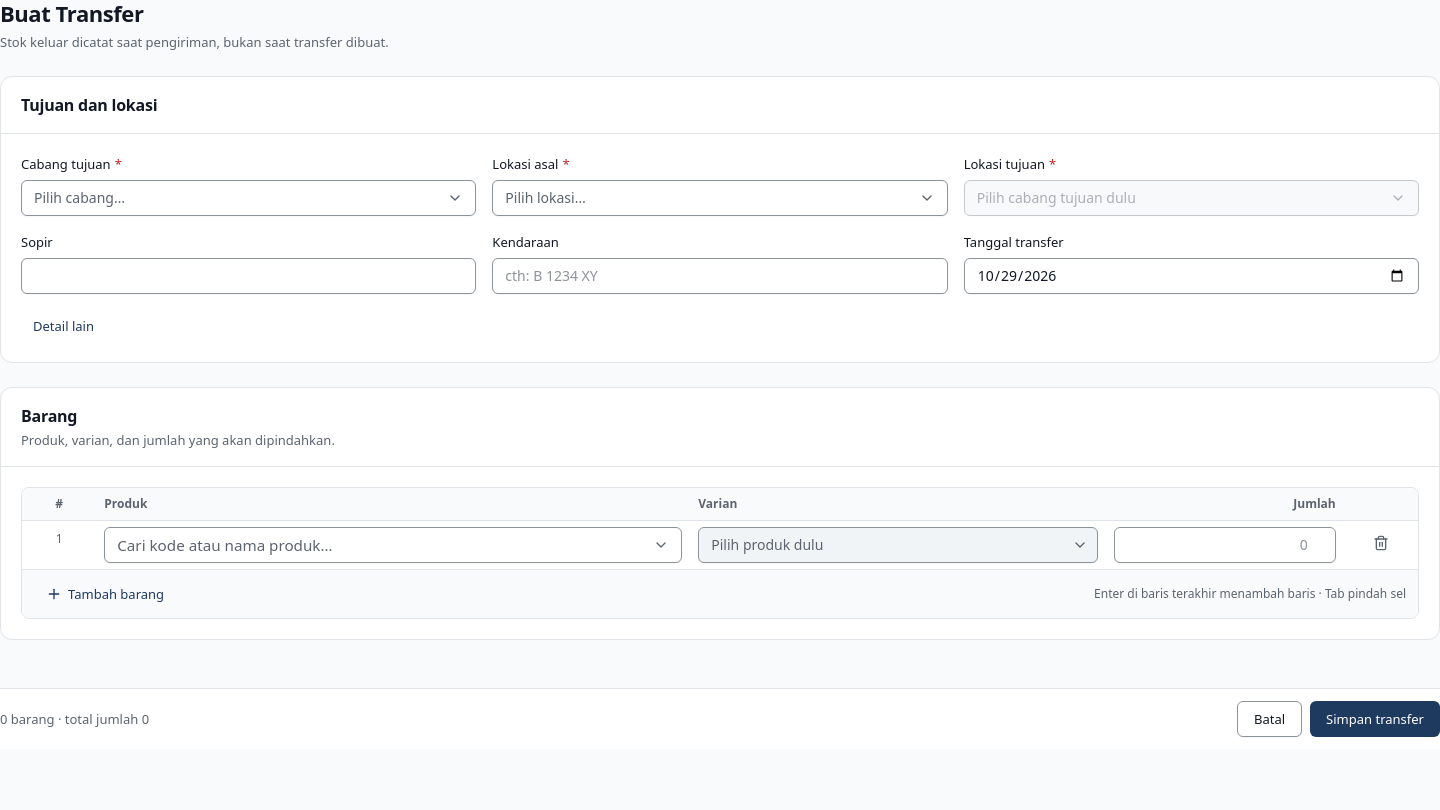
Scenario: TransferNewPage — lokasi tujuan mengikuti cabang tujuan (K-06) › memuat lokasi cabang tujuan dan mengosongkan pilihan saat cabang berganti
Click the button named "Cabang tujuan": (79, 197) [21,180,476,216]
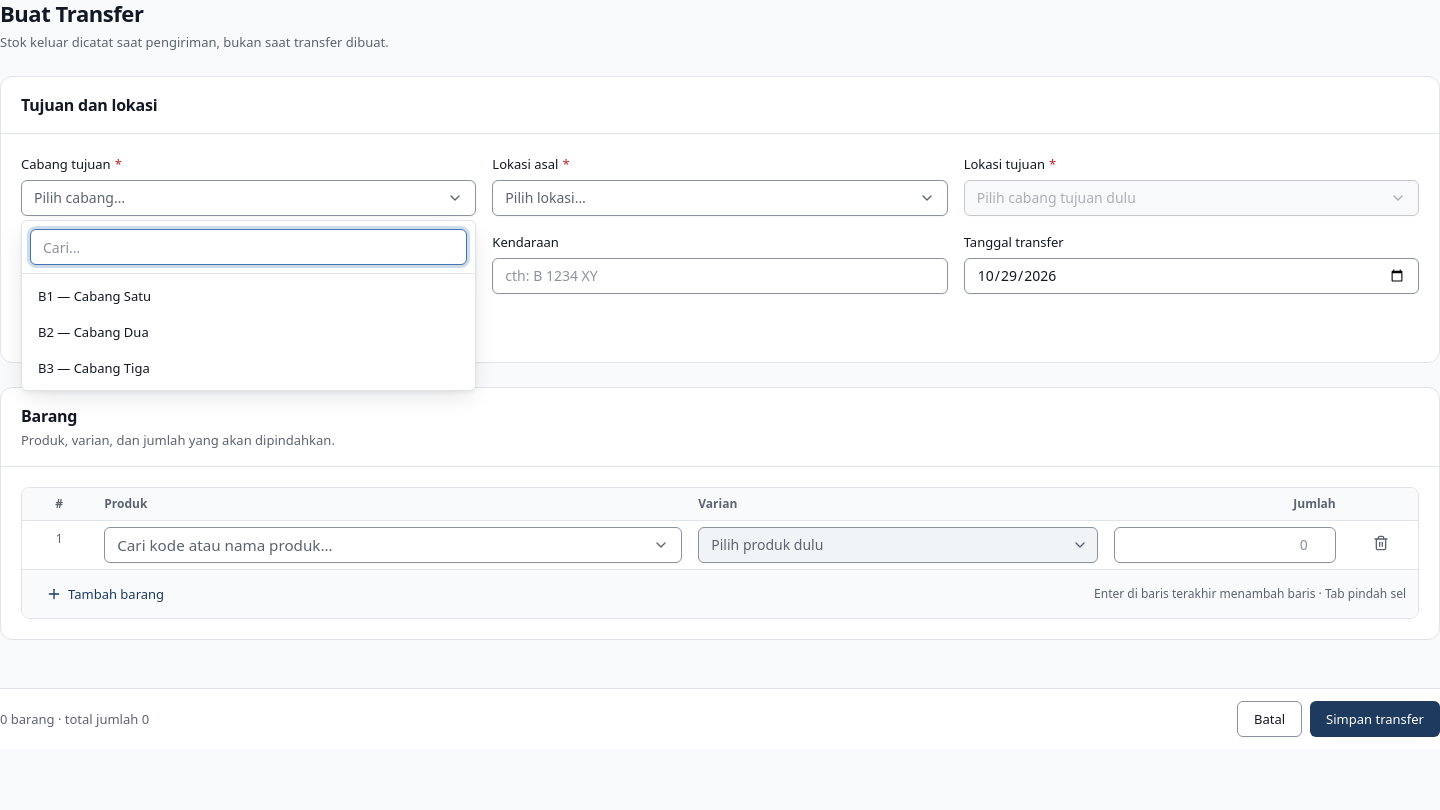
Click the option "B2 — Cabang Dua": (93, 332) [26,314,471,350]
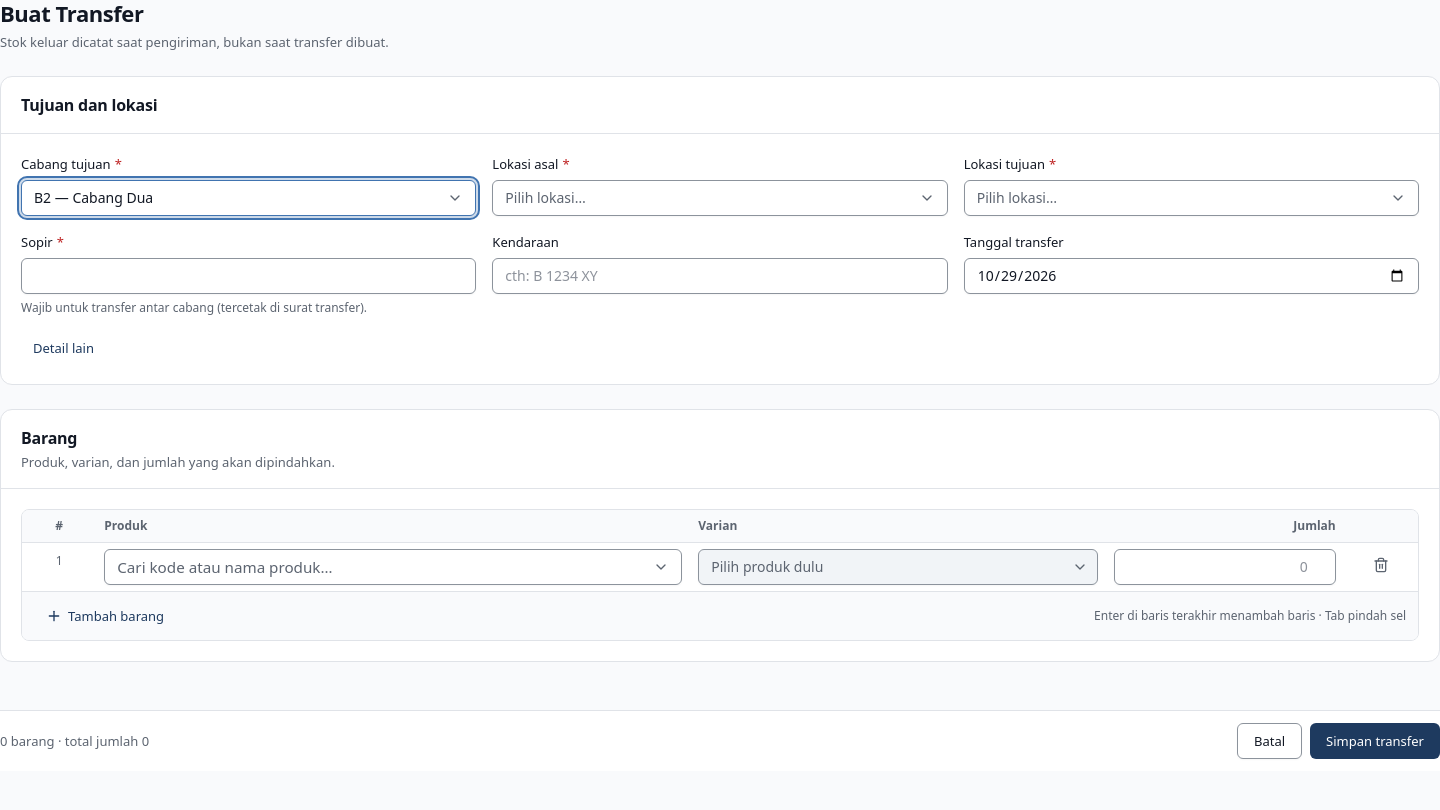
Expected: the button named "Lokasi tujuan" is enabled
Click the button named "Lokasi tujuan": (1017, 197) [964,180,1419,216]
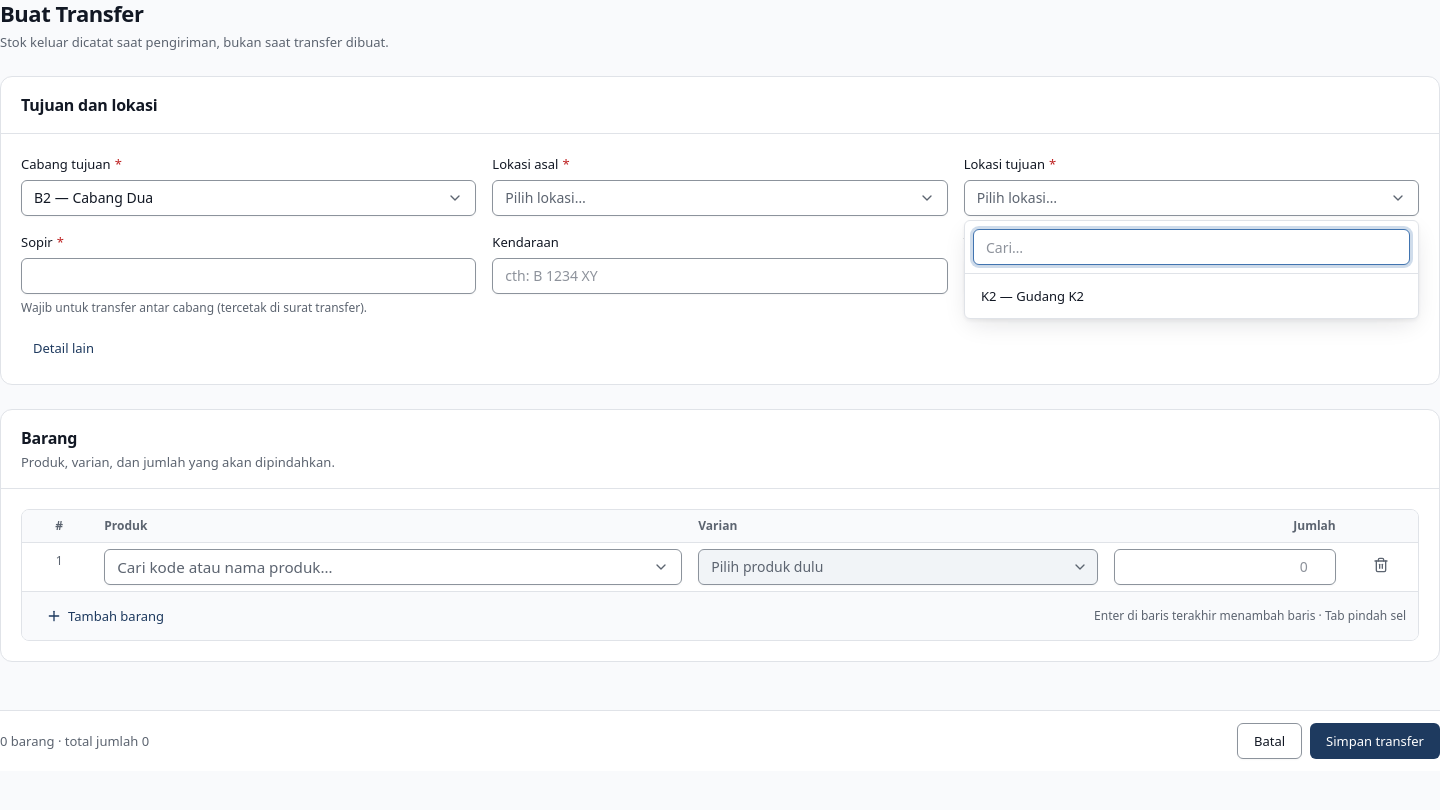
Click the option "K2 — Gudang K2": (1032, 296) [969,278,1414,314]
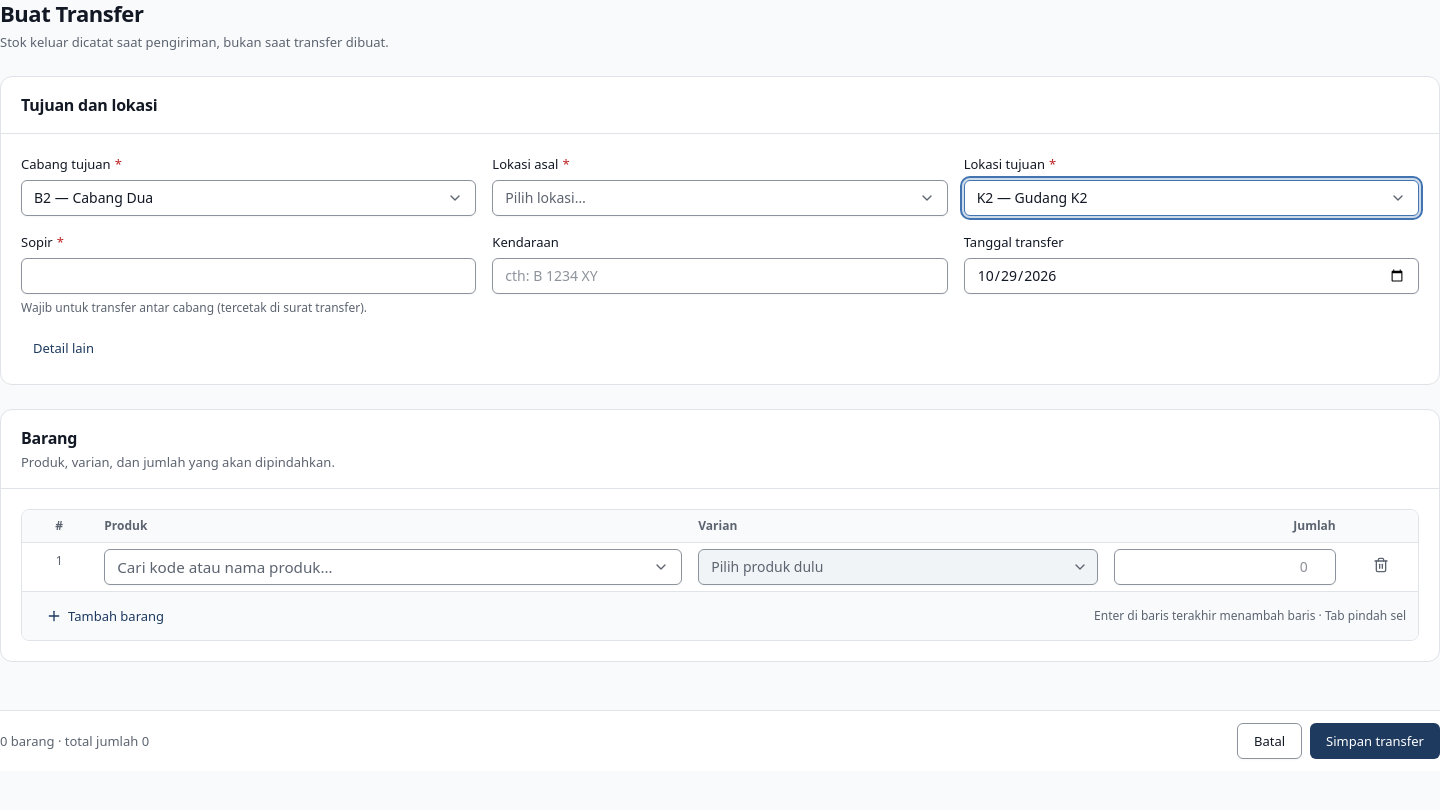
Expected: the text "K2 — Gudang K2" is shown, [977,186,1088,208]
Click the button named "Cabang tujuan": (94, 197) [21,180,476,216]
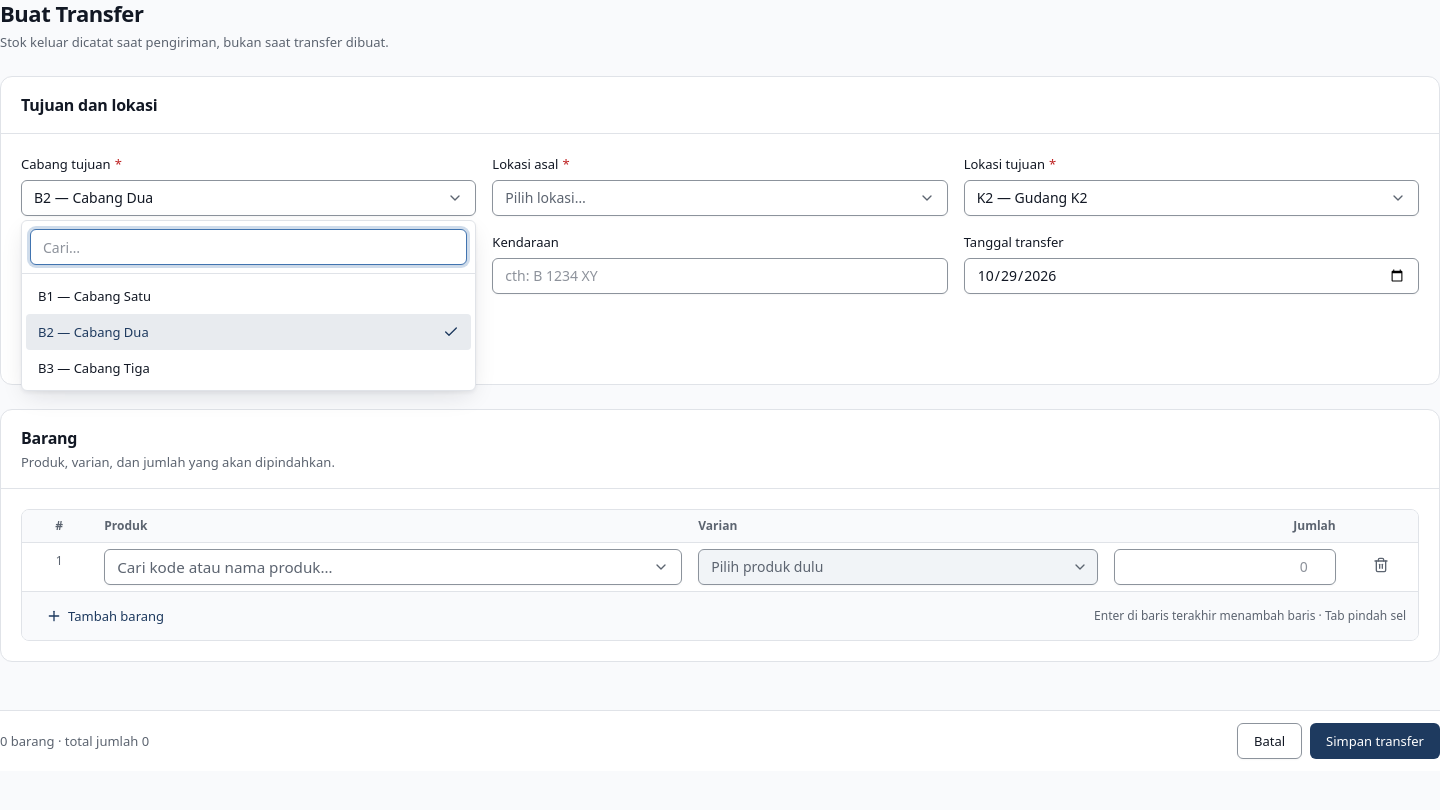
Click the option "B3 — Cabang Tiga": (94, 368) [26,350,471,386]
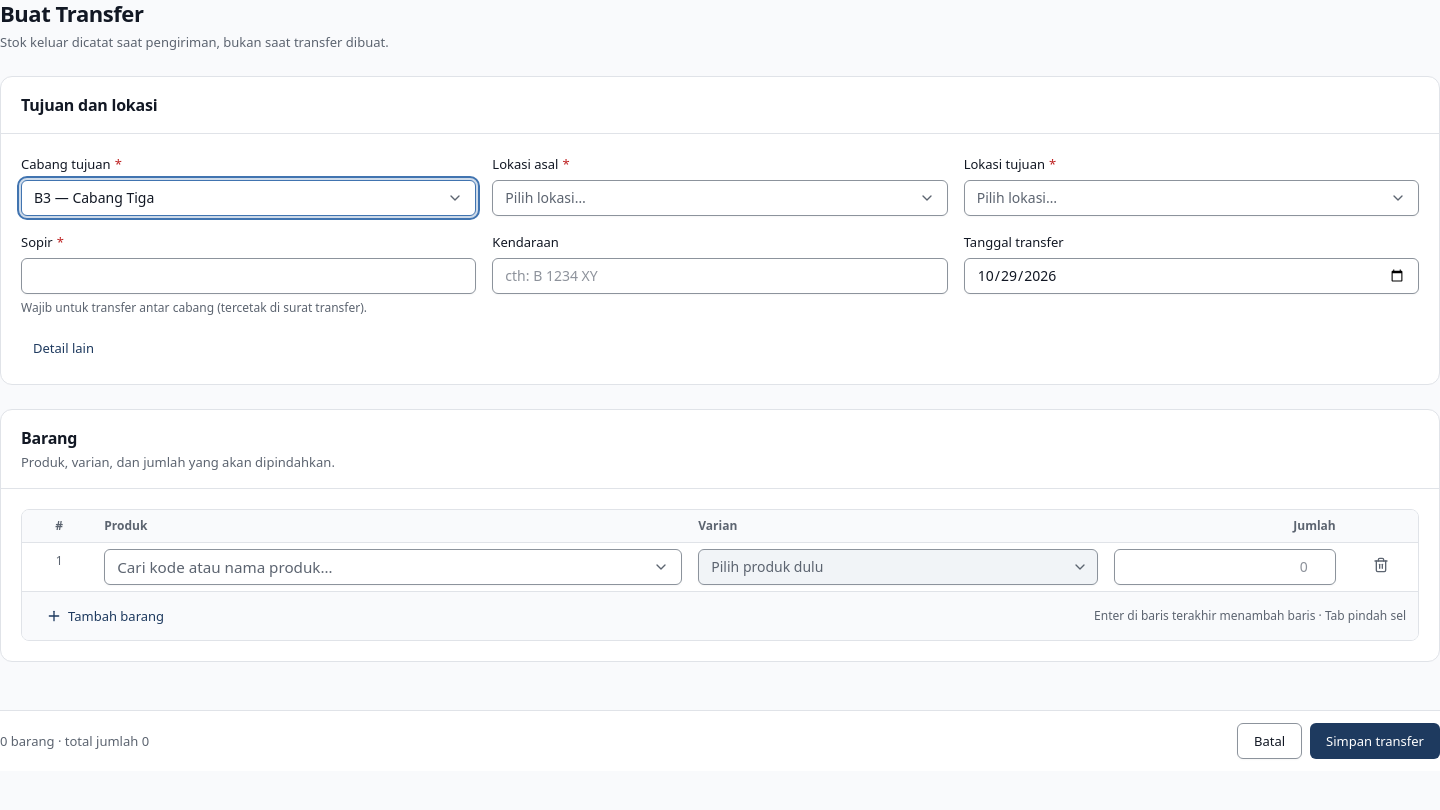
Expected: the button "K2 — Gudang K2" is gone
